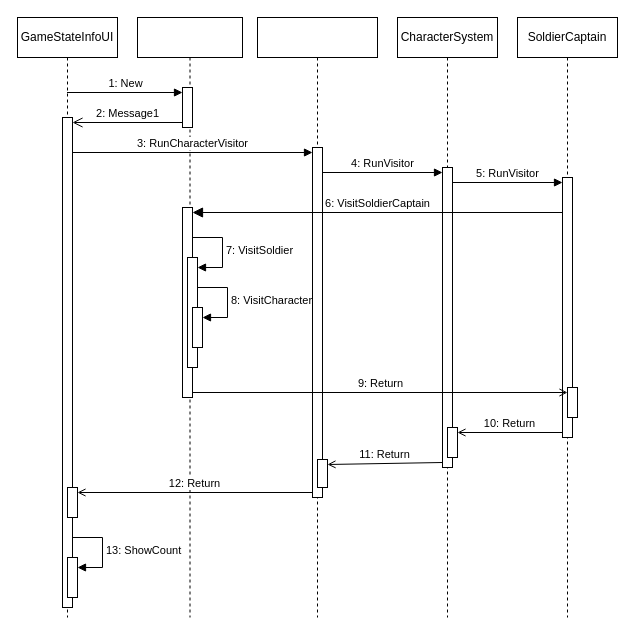
Some shapes in this 635 by 635 pixel diagram are drawn without their labels. The shapes that lost their labels are listed below. From the top down, each one's box as (x1, y1, x2, y2) in pixels, then its label:
(136, 16, 242, 618): UnitCountVisitor
(256, 16, 378, 618): PBaseDefenGame
